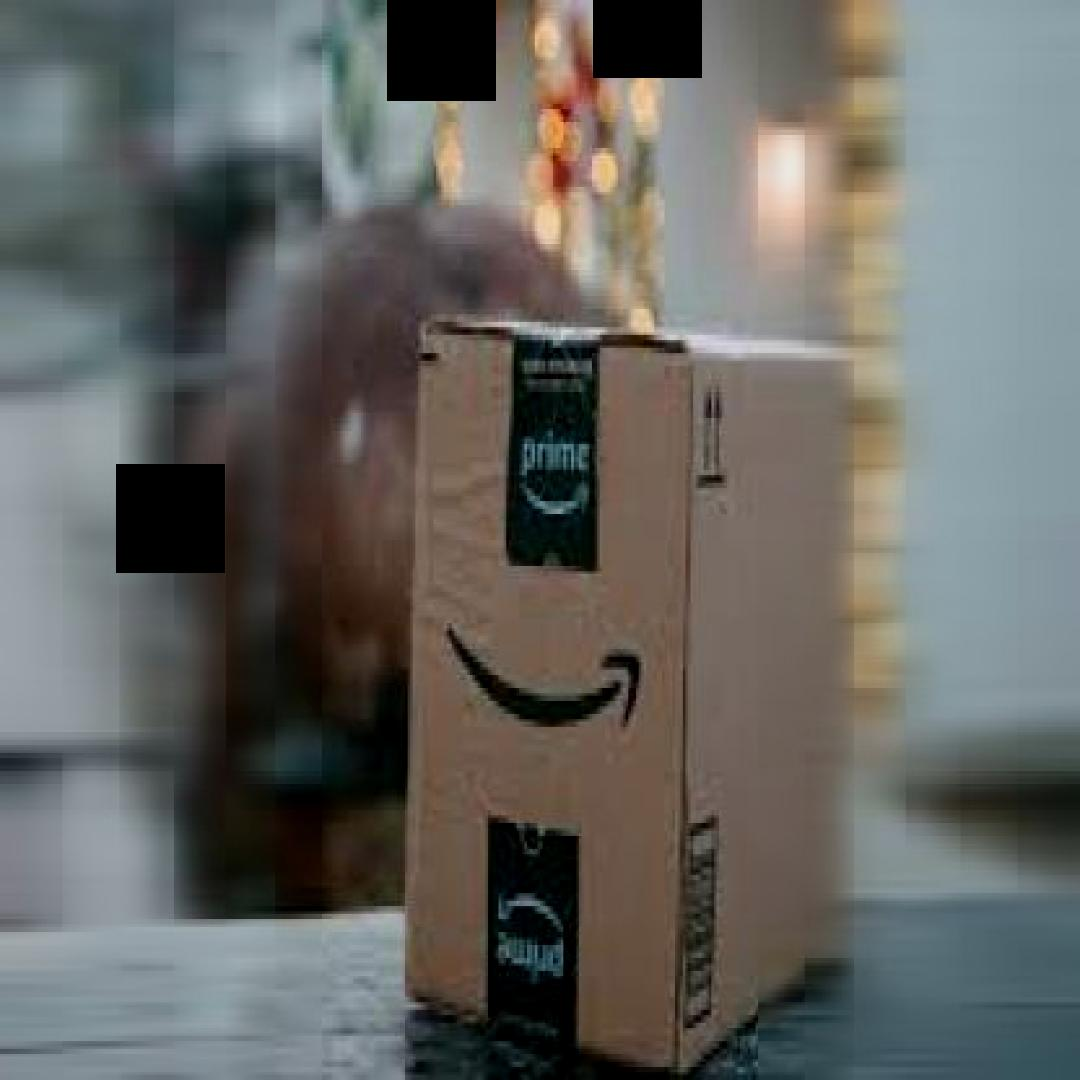package: (400, 306, 857, 1078)
